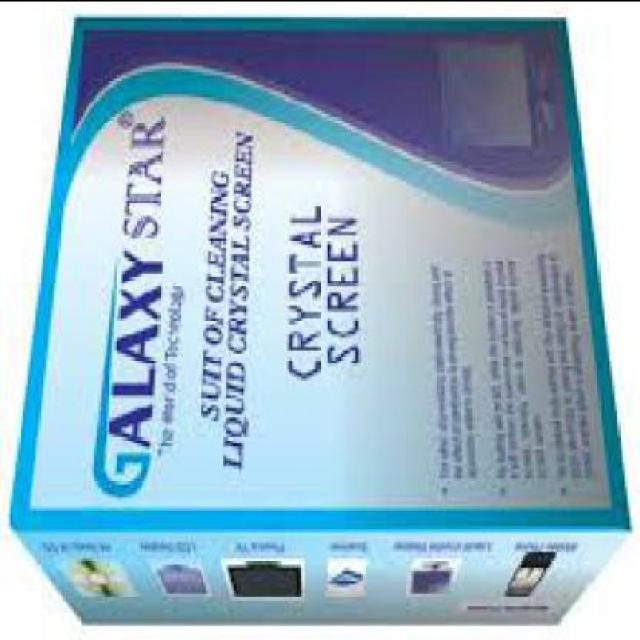CARDBOARD: (5, 15, 627, 631)
